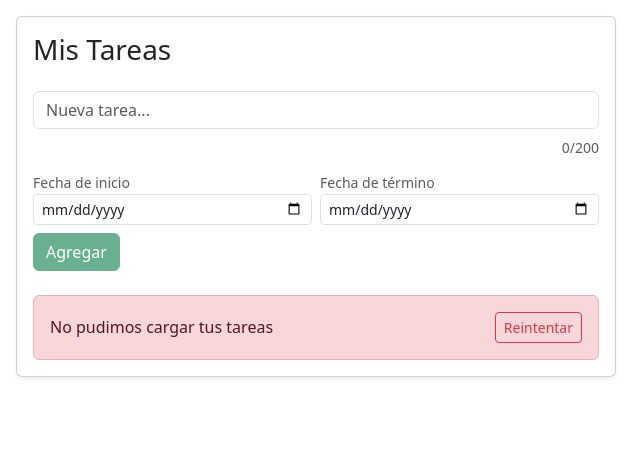
Test: shows the load error with a retry that works (backend down, then up)
Later steps or results of the test are not shown.
Check: the text "No pudimos cargar tus tareas" is shown, box [50,315,273,339]
Click the button "Reintentar".
click(538, 327)  # box [495,312,582,343]
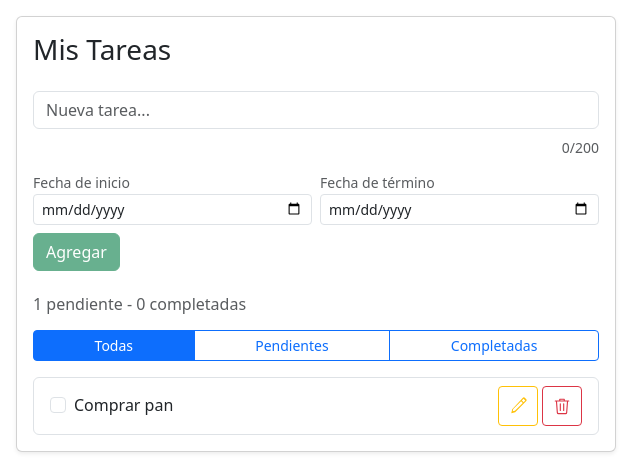
Check: the text "No pudimos cargar tus tareas" is gone
Check: the text "Comprar pan" is shown, box [74,394,173,416]
